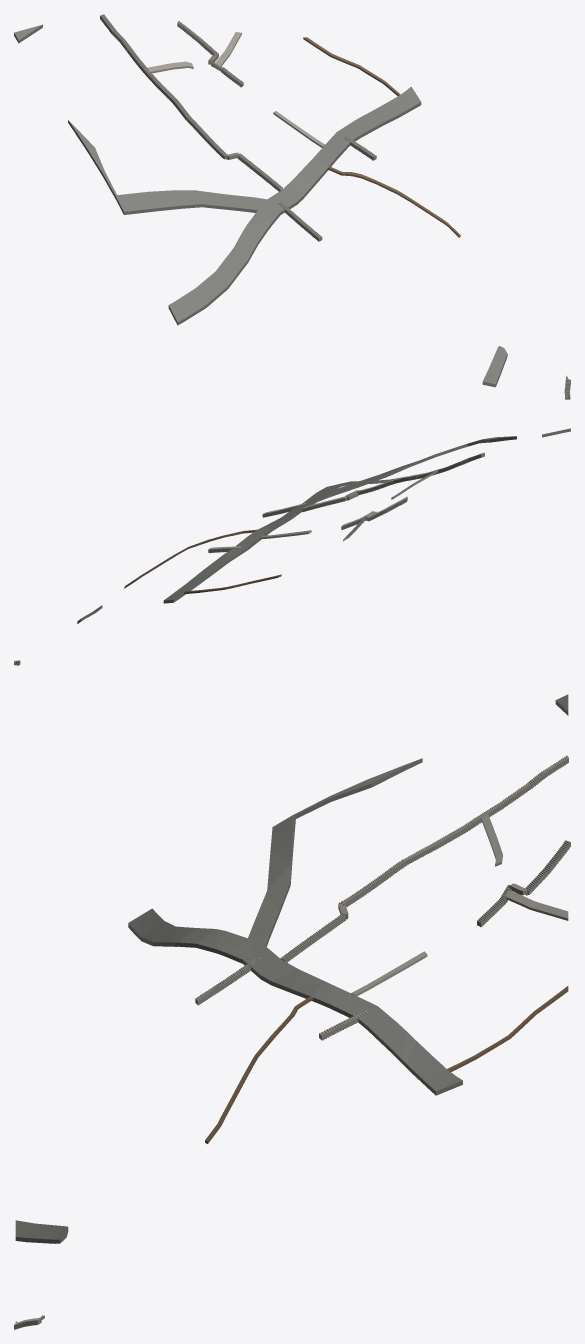
3 renders of one model, top to bottom at view 1: azimuth 30°, elevation 25°; view 2: azimuth 210°, elevation 25°; view 3: azimuth 270°, elevation 25°, orthographic. The views are drawn at different scales.
Bounding box in the file's own units: 147 × 118 × 147.
